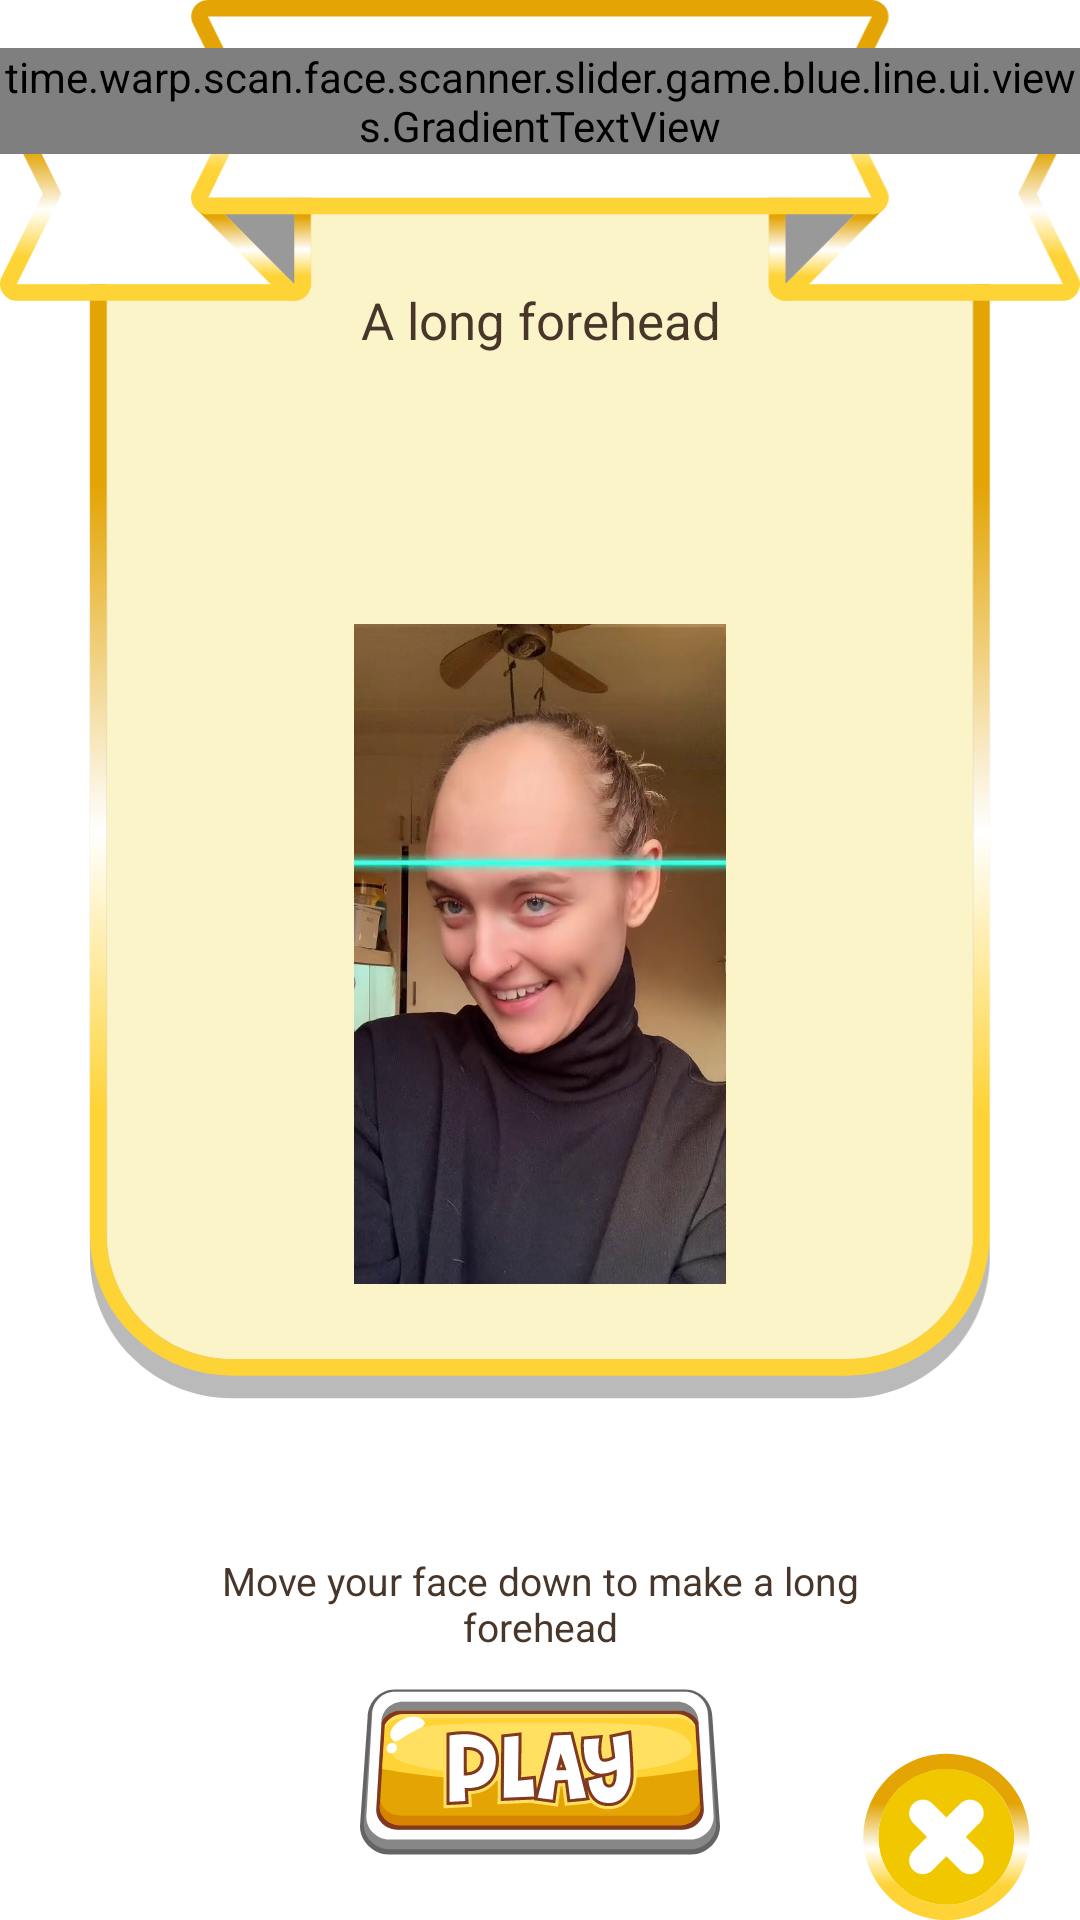

Locate icon controls on the screen. Image size 1080 x 1920, boxes as [x1,y1,x2,y2].
close level popup: [863,1753,1030,1920]
